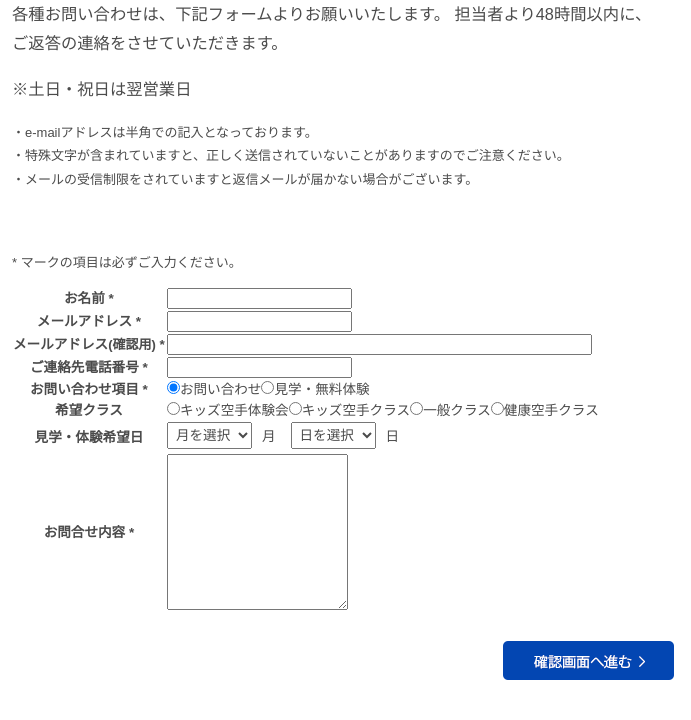
Scenario: ContactForm › shows validation error on empty submit
Click the button with alt text "確認画面へ" at x=588, y=661, box x1=502 y1=641 x2=674 y2=680
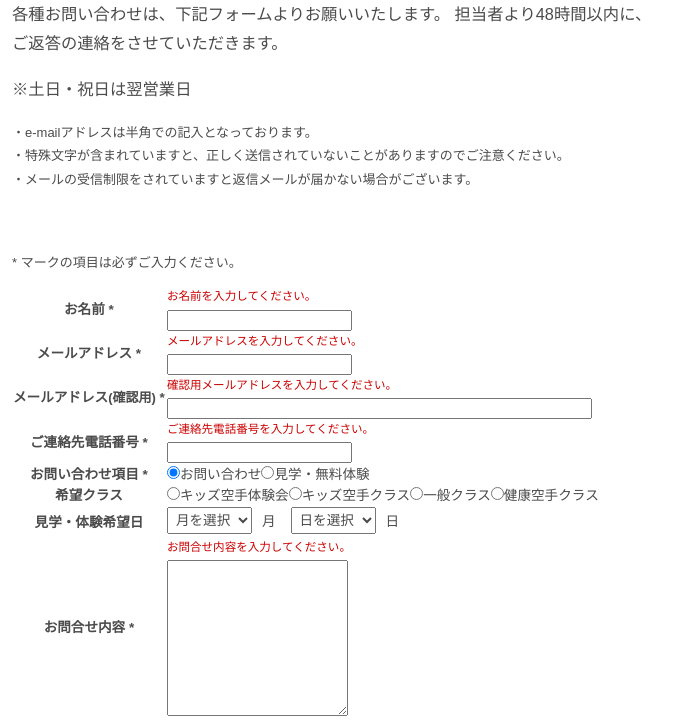
Check: the text "お名前を入力してください。" is shown, box x1=167 y1=290 x2=316 y2=302
Check: the text "メールアドレスを入力してください。" is shown, box x1=167 y1=335 x2=362 y2=347
